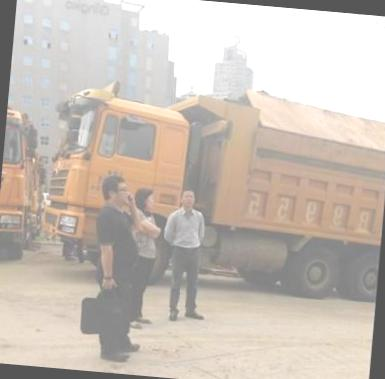no_helmet: (96, 170, 132, 210), (133, 184, 156, 215), (178, 184, 198, 209)
